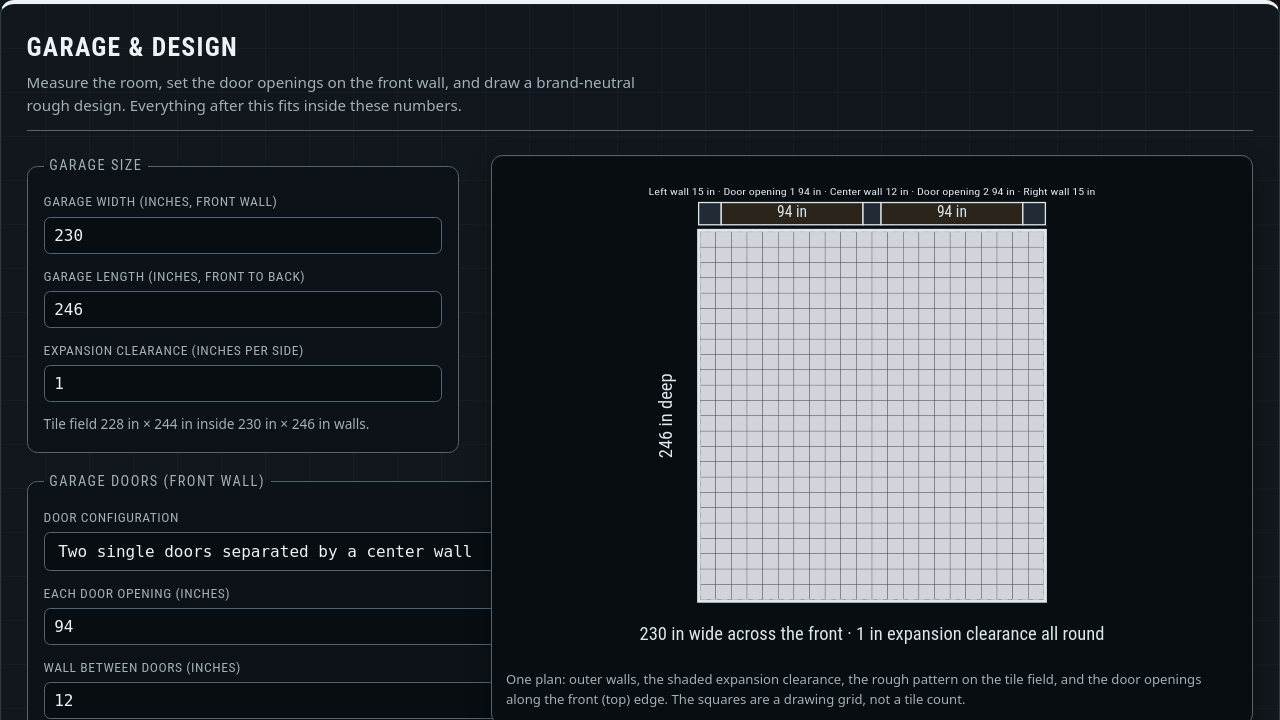
Test: GuidedPlanner garage defaults › refuses a dimension the model cannot use and hides the tile options
The image size is (1280, 720).
Step 1. Replace the text in the field labelled "Garage width (inches, front wall)" with "12" → (243, 235), box [44,217,442,254]
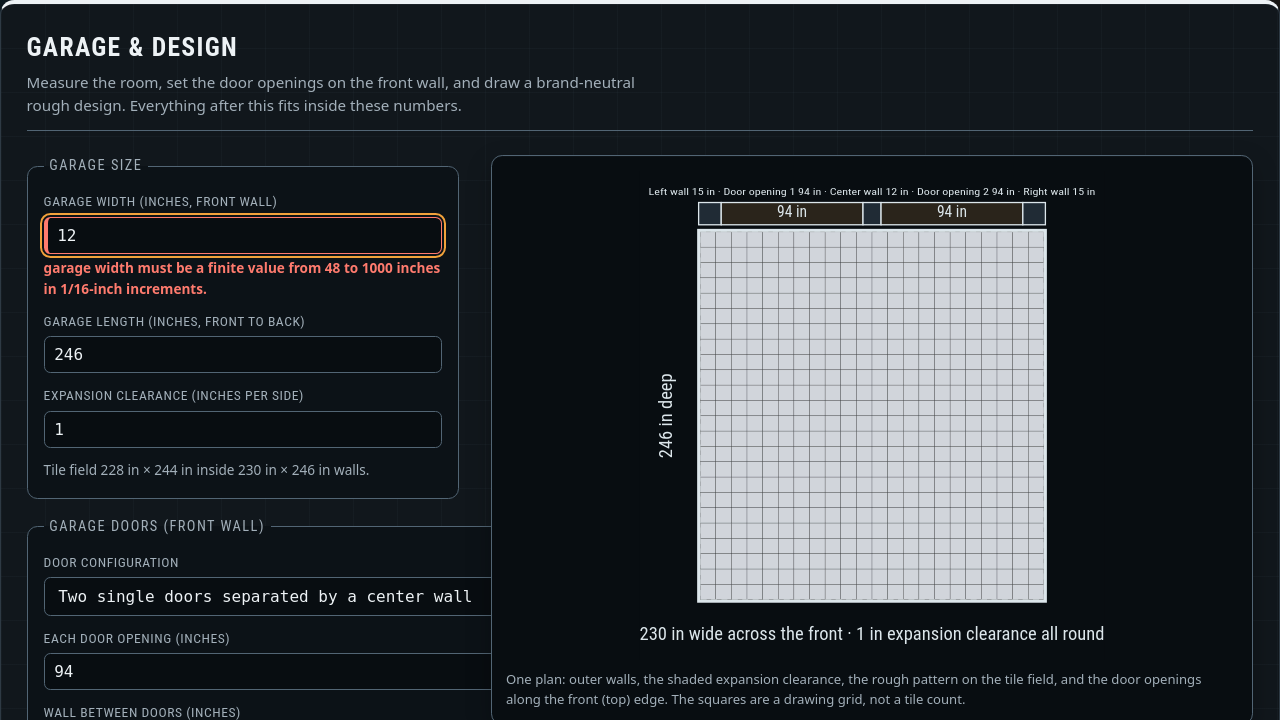
Check: the text "48 to 1000 inches" is shown, box [44,258,440,298]
